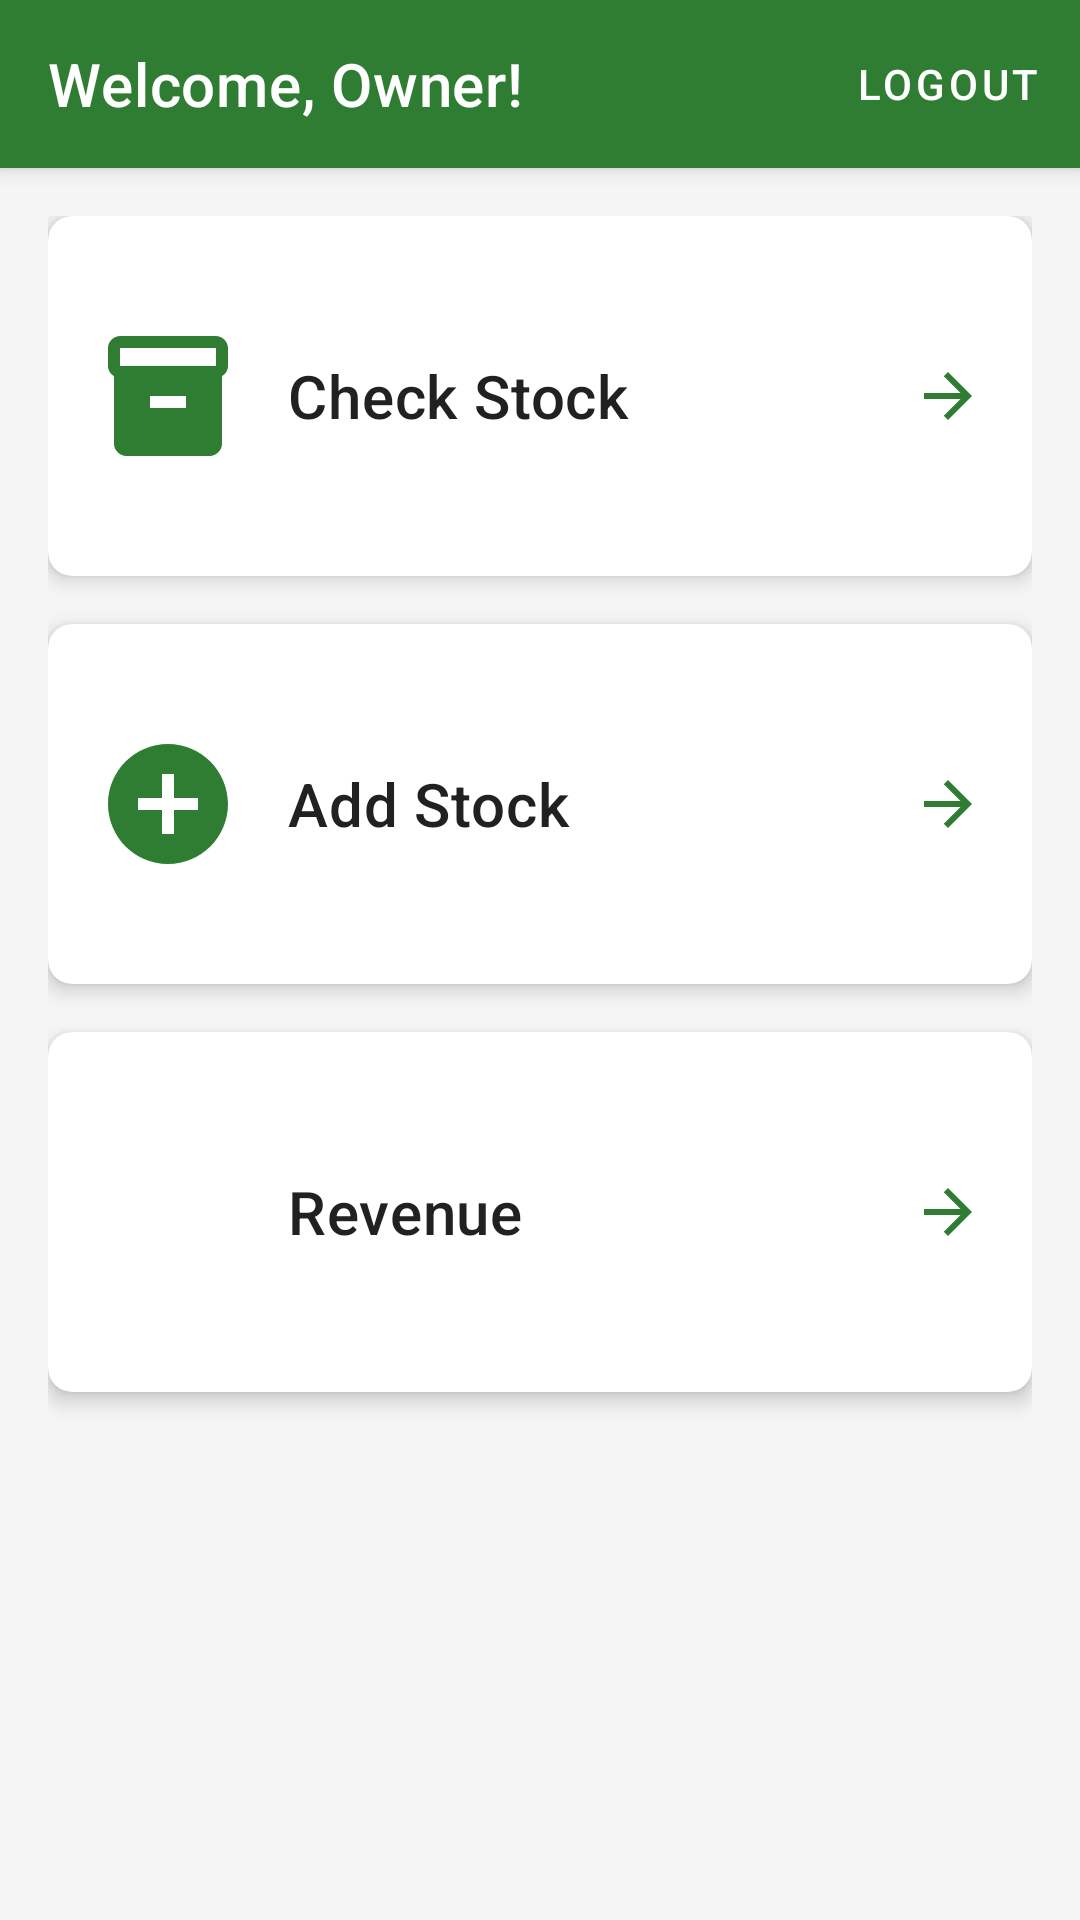

Icons on this 1080 × 1920 Android screen, each with the point to tap as [x,y]:
Arrow Forward: [948,396], [948,804], [948,1212]
